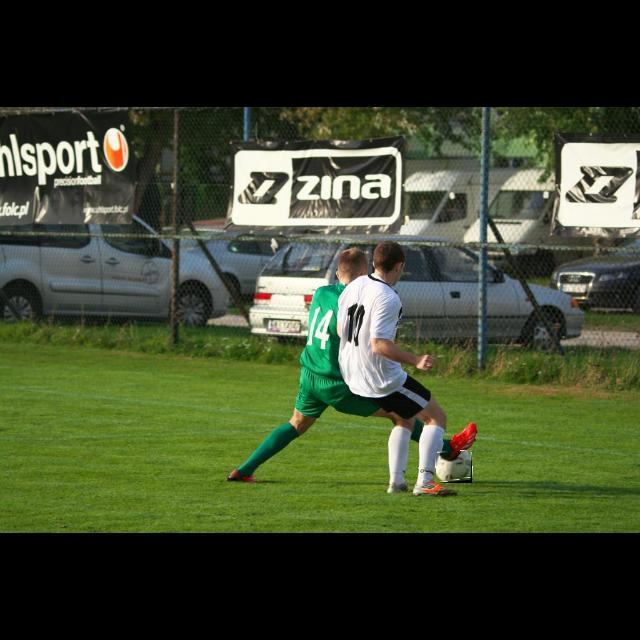Football: (436, 451, 472, 483)
